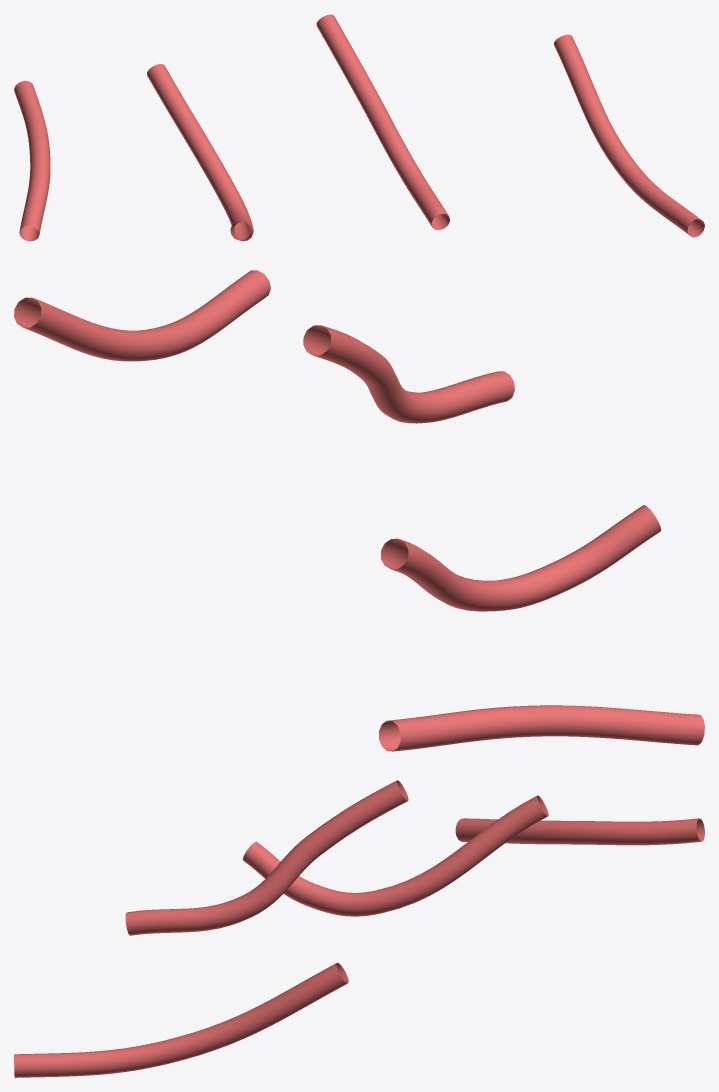
File: Common_plantar_digital_arteries.r.001_BezierCurve.229.glb
The picture shows the model from 3 angles, top to bottom: view 1: azimuth 30°, elevation 25°; view 2: azimuth 150°, elevation 25°; view 3: azimuth 270°, elevation 25°; orthographic projection. The views are drawn at different scales.
Visible parts, largest first — view 1: Common_plantar_digital_arteries.r.001_BezierCurve.229; view 2: Common_plantar_digital_arteries.r.001_BezierCurve.229; view 3: Common_plantar_digital_arteries.r.001_BezierCurve.229.
Boxes of the visible parts, <box> form: Common_plantar_digital_arteries.r.001_BezierCurve.229: <box>14,14,704,241</box>; Common_plantar_digital_arteries.r.001_BezierCurve.229: <box>14,270,704,751</box>; Common_plantar_digital_arteries.r.001_BezierCurve.229: <box>14,780,704,1077</box>.
Size of the model in its own units: 0.0397 by 0.0139 by 0.0408.
